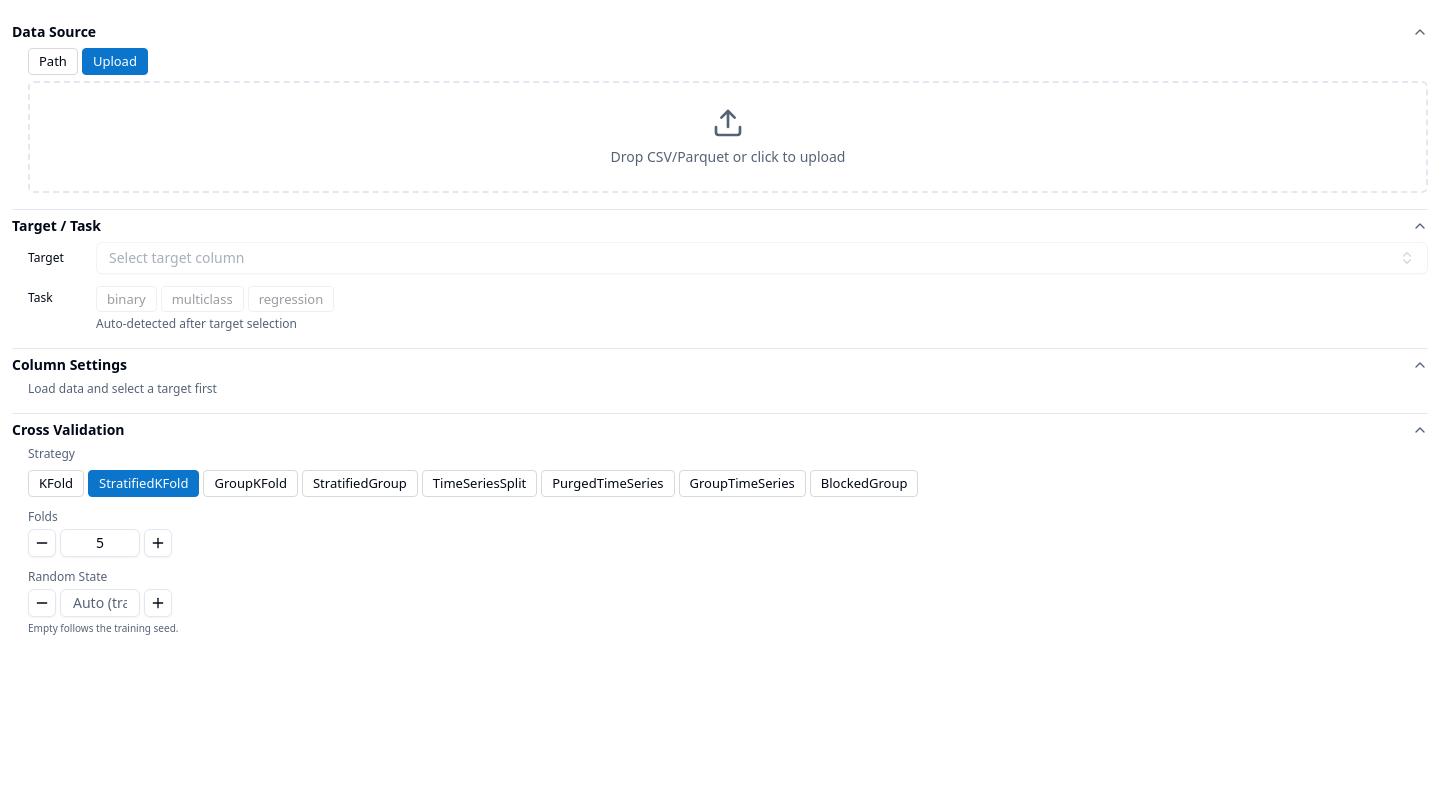
DataPanel › shows shape info after data is loaded via path
Click the radio button "Path" at coordinates (53, 61), box left=28, top=48, right=78, bottom=75
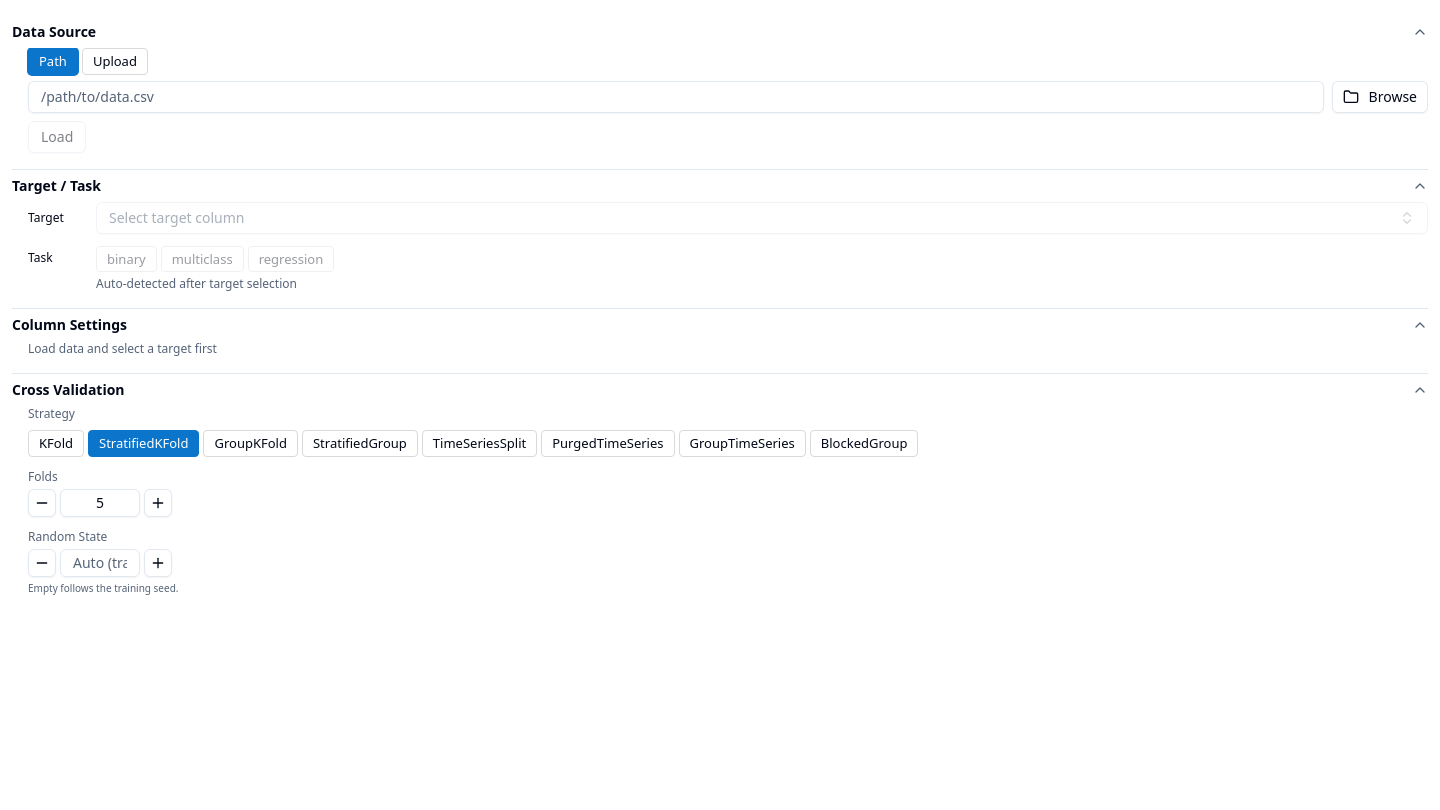
Type "/data.csv" into the field with placeholder "/path/to/data.csv" at coordinates (676, 97), box left=28, top=81, right=1324, bottom=113
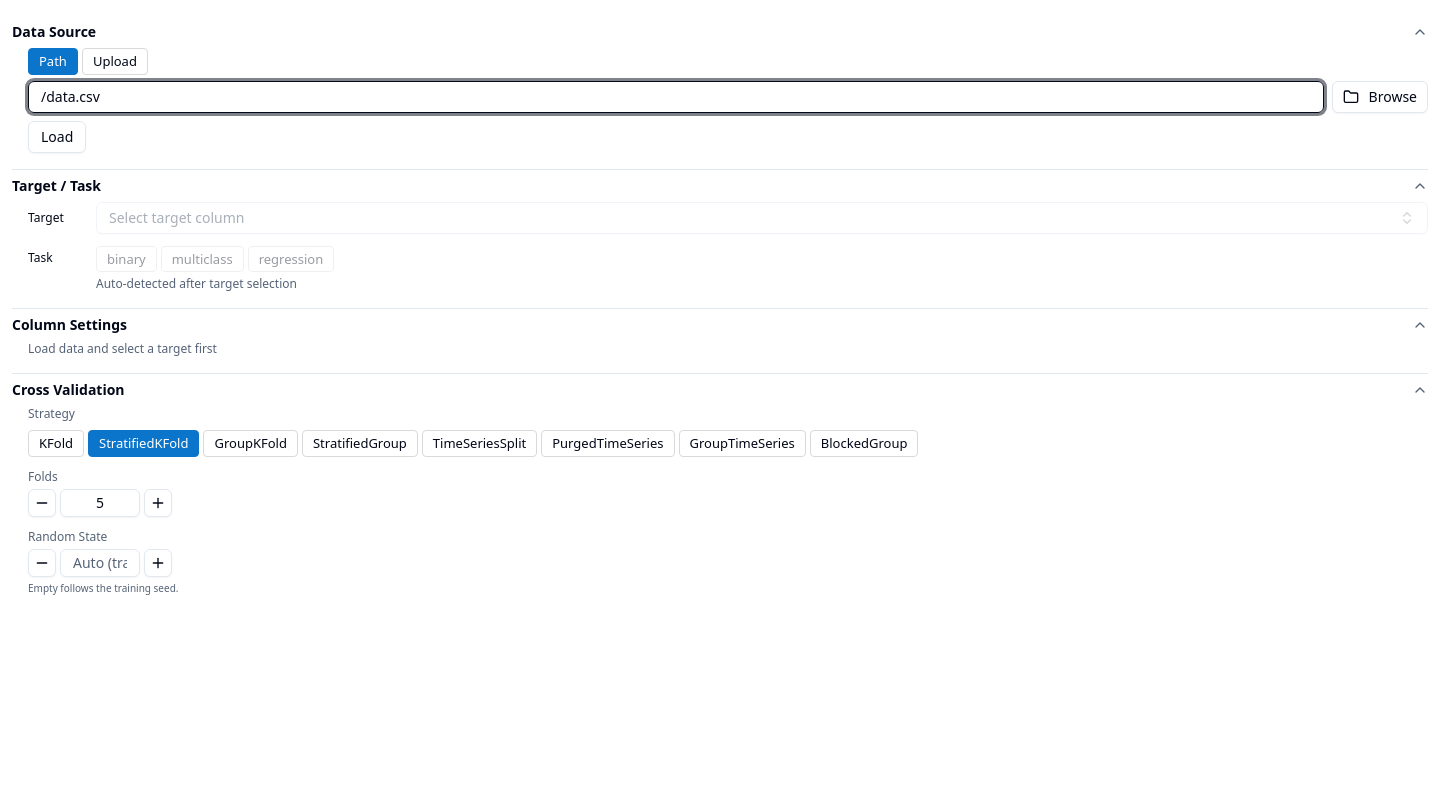
Click the button "Load" at coordinates (57, 137), box left=28, top=121, right=86, bottom=153
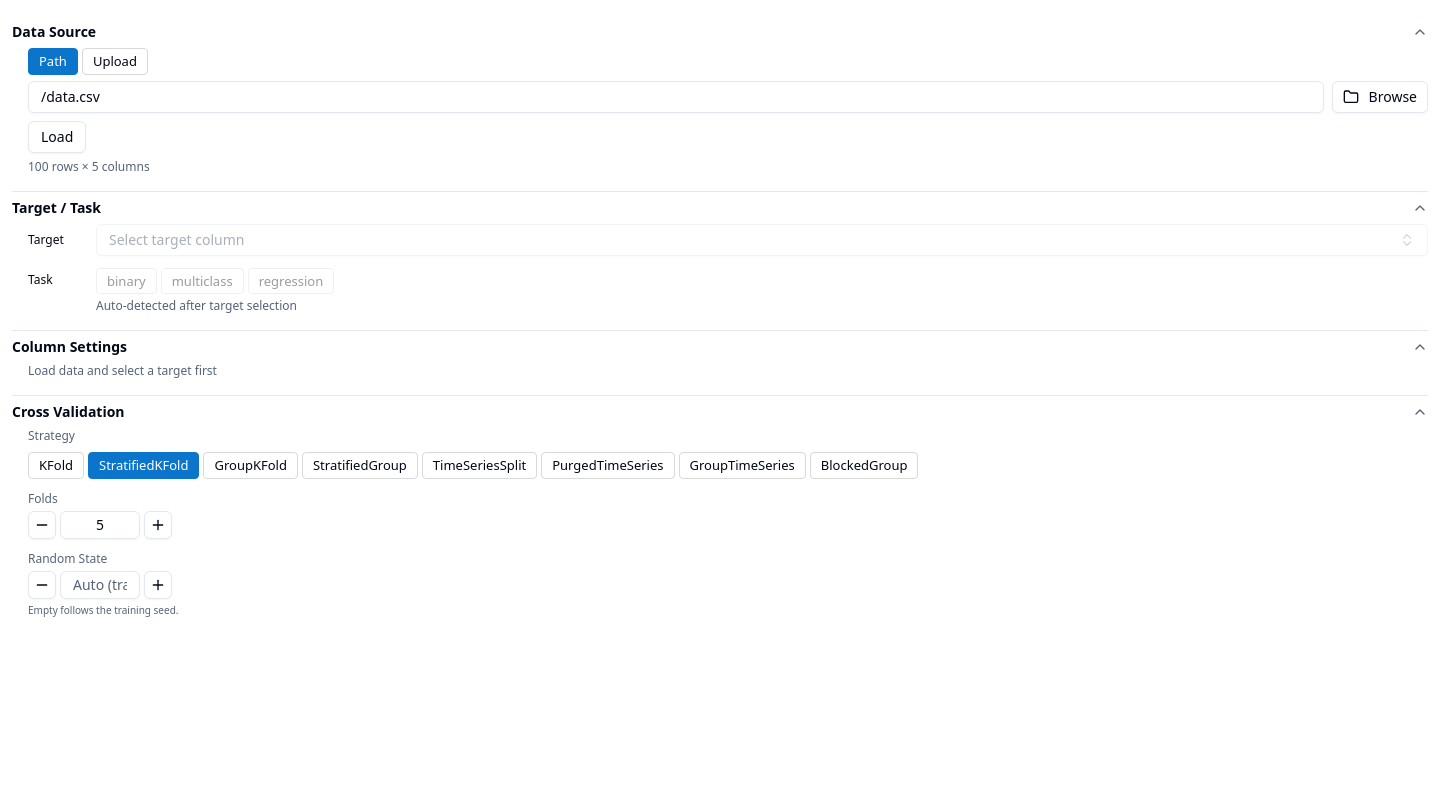
Check: the text "100 rows × 5 columns" is shown, box left=28, top=158, right=150, bottom=175
